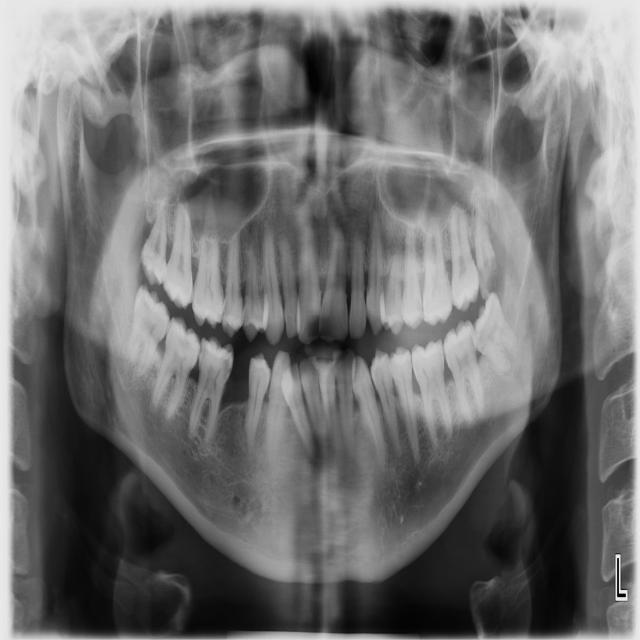mandibula: (54, 66, 574, 583)
